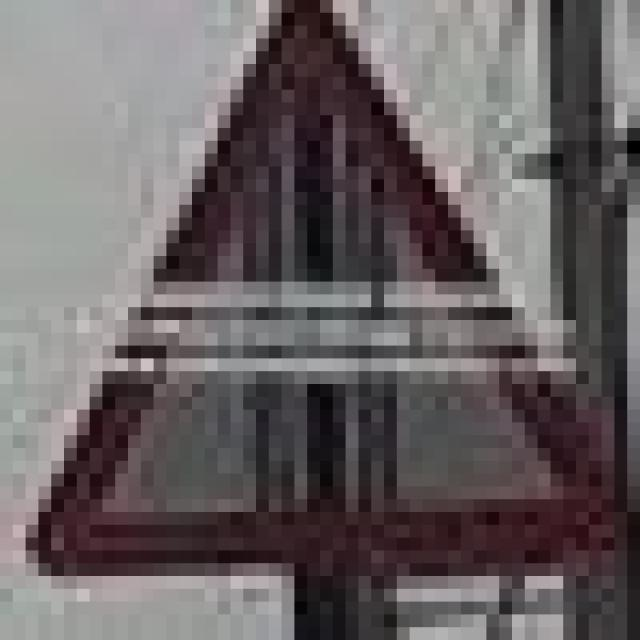ferry: (26, 0, 627, 563)
